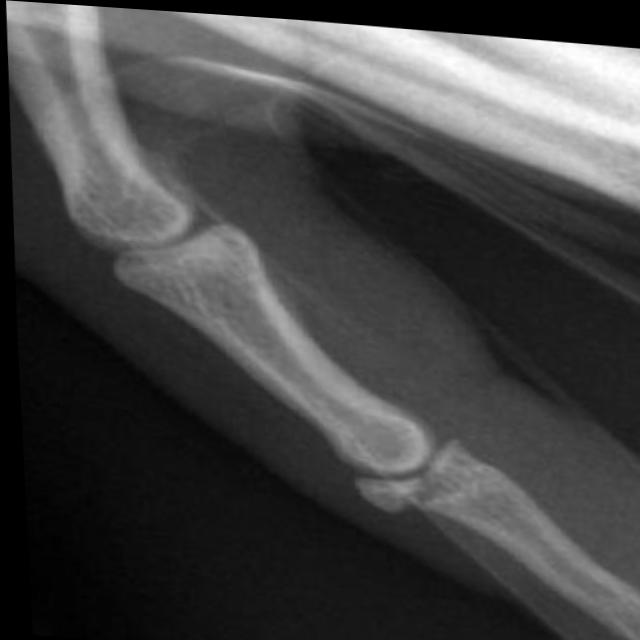fracture: (339, 451, 435, 524)
